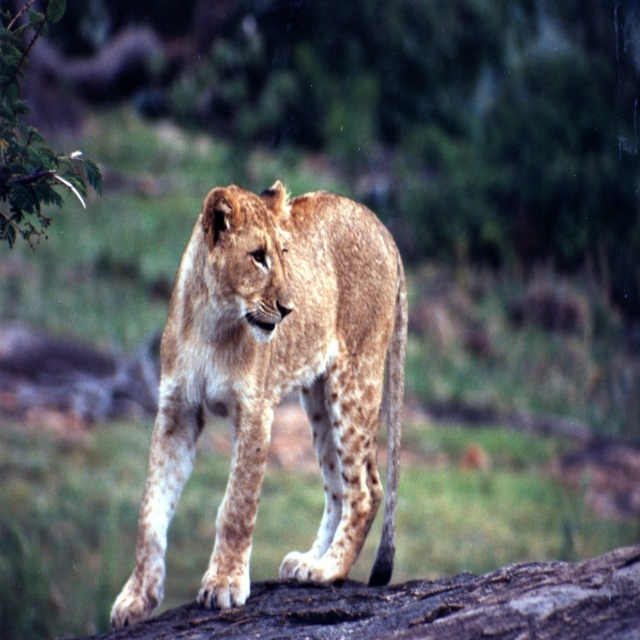Cheetah: (111, 156, 404, 623)
